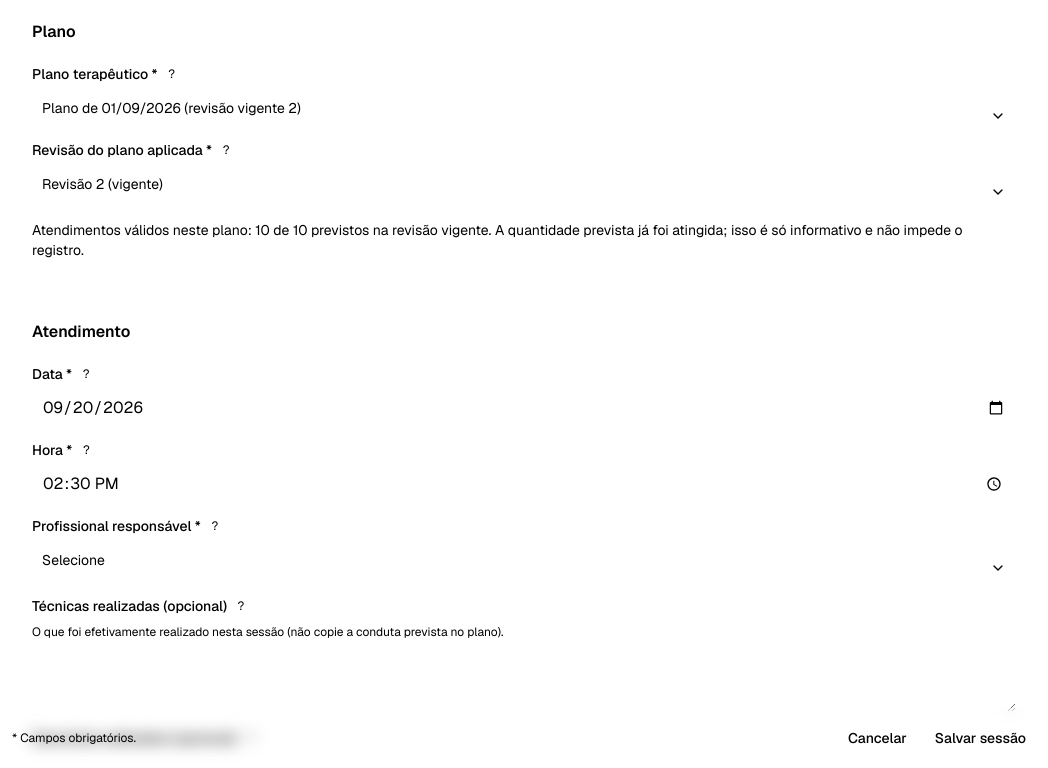
SessionForm — registro › sugere a revisão vigente, troca ao mudar de plano e informa a previsão sem bloquear
This screenshot has width=1048, height=768.
Expected: the dropdown labelled "Revisão do plano aplicada *" shows "Revisão 2 (vigente)", [32,168,1016,200]
Expected: the text "10 de 10 previstos" shows "só informativo e não impede o registro", [32,221,962,259]
Select "Plano de 05/09/2026" in the dropdown labelled "Plano terapêutico *": (524, 108) [32,92,1016,124]
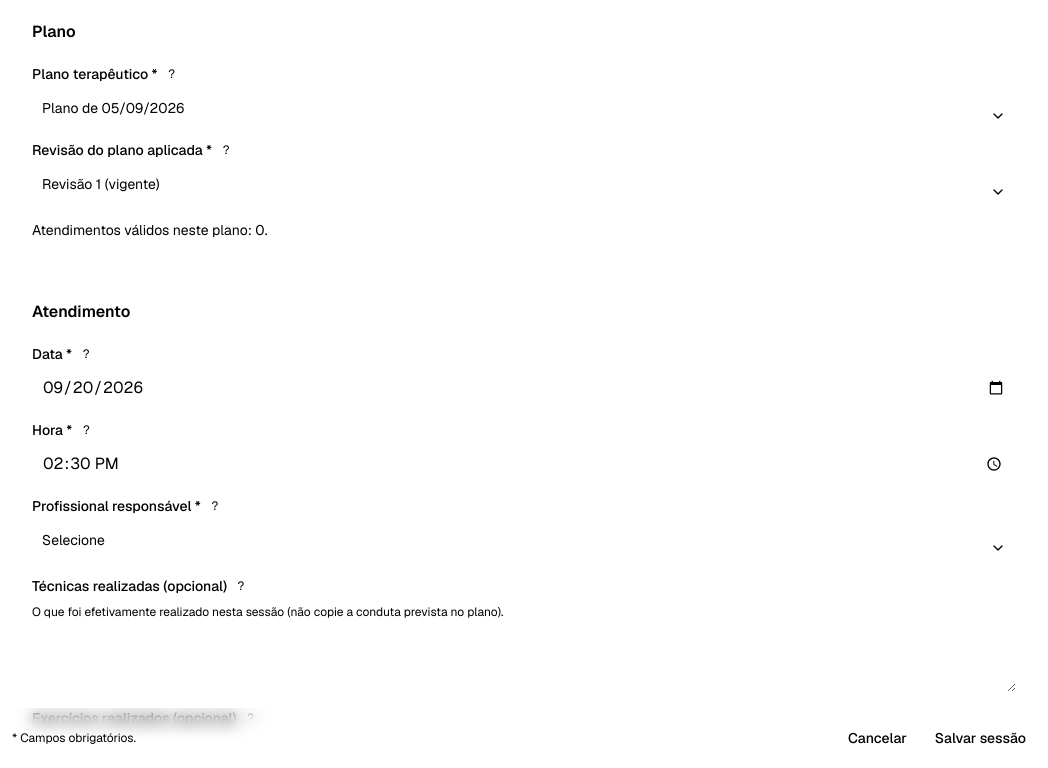
Now the dropdown labelled "Revisão do plano aplicada *" shows "Revisão 1 (vigente)", box [32,168,1016,200]
Now the text "Atendimentos válidos neste plano: 0." is shown, box [32,221,268,239]
